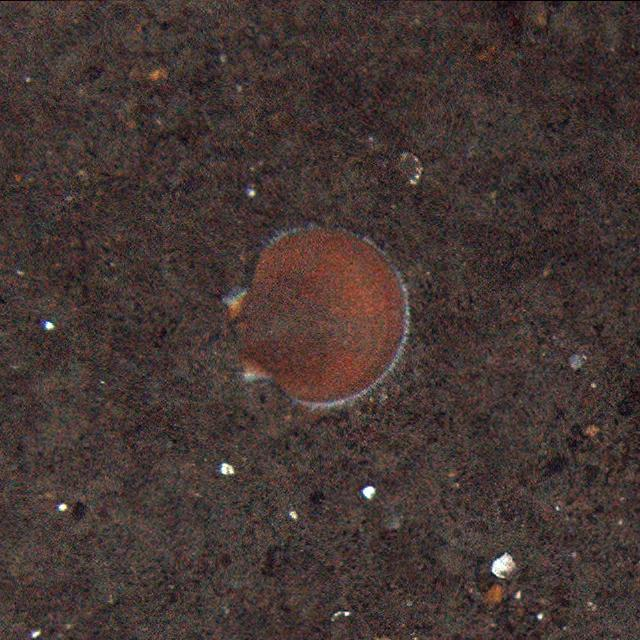scallop: (226, 220, 410, 412)
